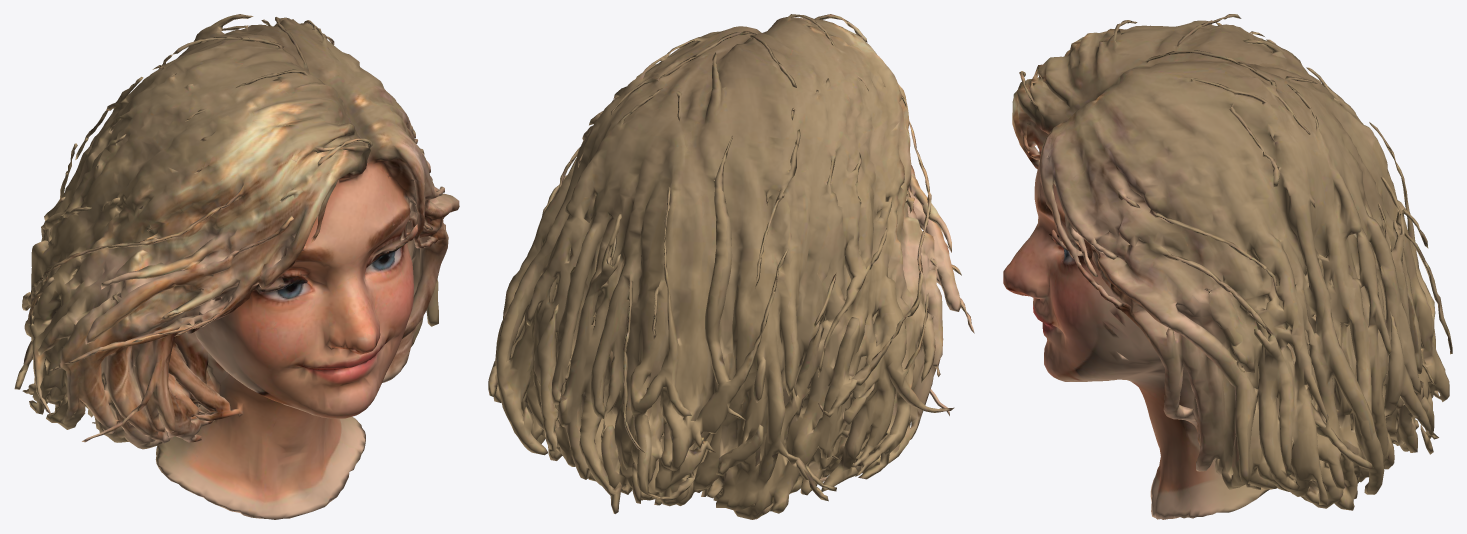
The model's file is head-detailed.glb.
3 renders of one model, left to right at view 1: azimuth 30°, elevation 25°; view 2: azimuth 150°, elevation 25°; view 3: azimuth 270°, elevation 25°, orthographic. The views are drawn at different scales.
Visible parts, largest first — view 1: PortraitHead_NormalSample; view 2: PortraitHead_NormalSample; view 3: PortraitHead_NormalSample.
Part boxes in pixels (left/top/right/bottom): PortraitHead_NormalSample: left=14, top=14, right=459, bottom=519; PortraitHead_NormalSample: left=488, top=14, right=974, bottom=519; PortraitHead_NormalSample: left=1003, top=14, right=1452, bottom=519.
Bounding box in the file's own units: 1.84 × 1.97 × 1.71.
Materials: 1 (1 with a texture image).
